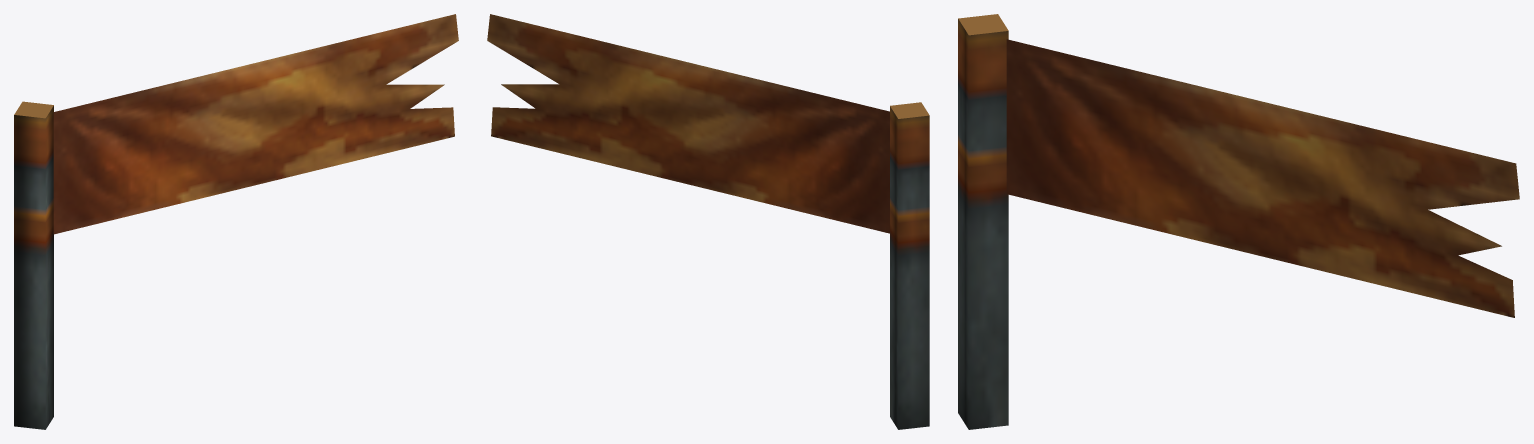
File: common_jingjichang_qizhi.FBX
3 views of the same model, side by side, from view 1: azimuth 30°, elevation 25°; view 2: azimuth 150°, elevation 25°; view 3: azimuth 330°, elevation 25° (orthographic). The views are drawn at different scales.
Parts seen in each view (by area): view 1: common_jingjichang_qizhi; view 2: common_jingjichang_qizhi; view 3: common_jingjichang_qizhi.
Boxes of the visible parts, <box> form: common_jingjichang_qizhi: <box>14,14,458,429</box>; common_jingjichang_qizhi: <box>487,14,929,429</box>; common_jingjichang_qizhi: <box>958,14,1519,429</box>.
Size of the model in its own units: 4.08 by 2.74 by 0.3677.
